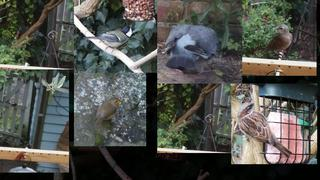great tit: (83, 24, 133, 54)
robin: (94, 97, 122, 128)
sparrow: (237, 102, 293, 158)
starling: (260, 24, 293, 60)
wood pigeon: (164, 24, 218, 75)
